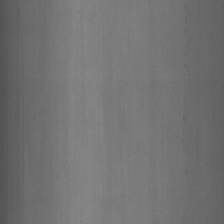silk_spot: (181, 21, 202, 185)
